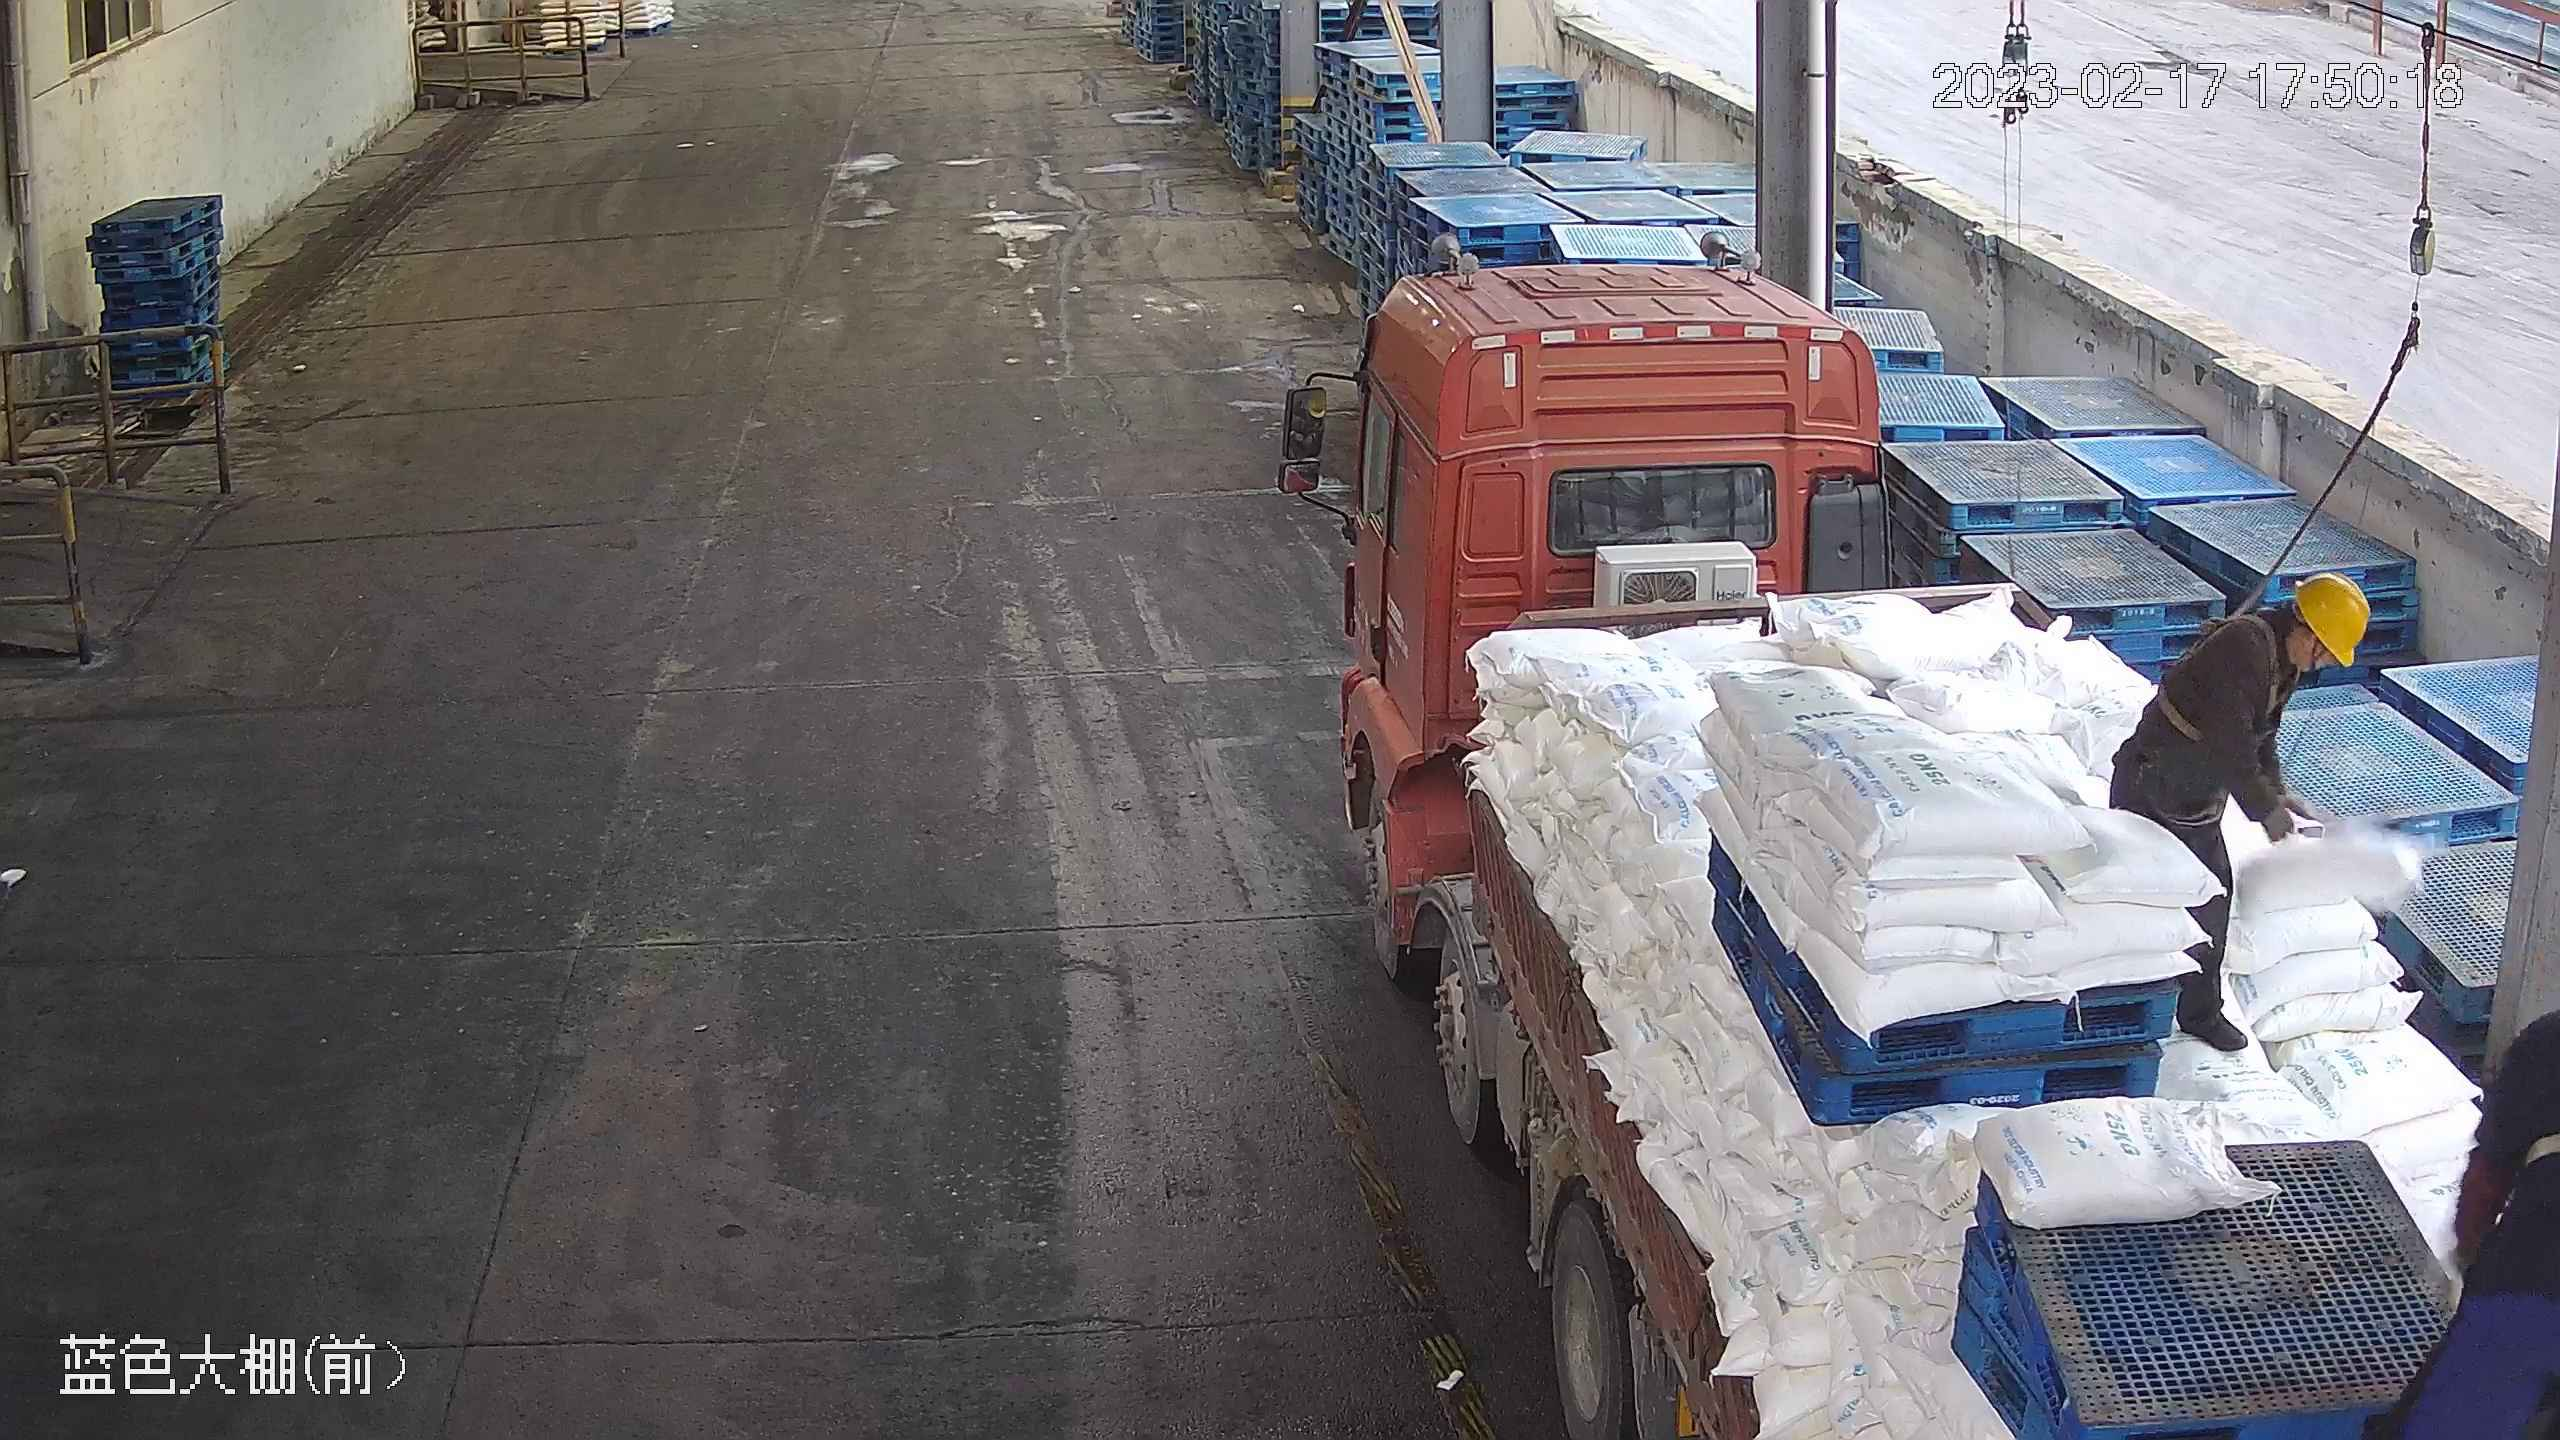belt: (2152, 608, 2291, 745)
head: (2193, 571, 2371, 721)
helmet: (2292, 569, 2372, 668)
people: (2103, 570, 2370, 1065)
truck: (1275, 233, 2558, 1440)
